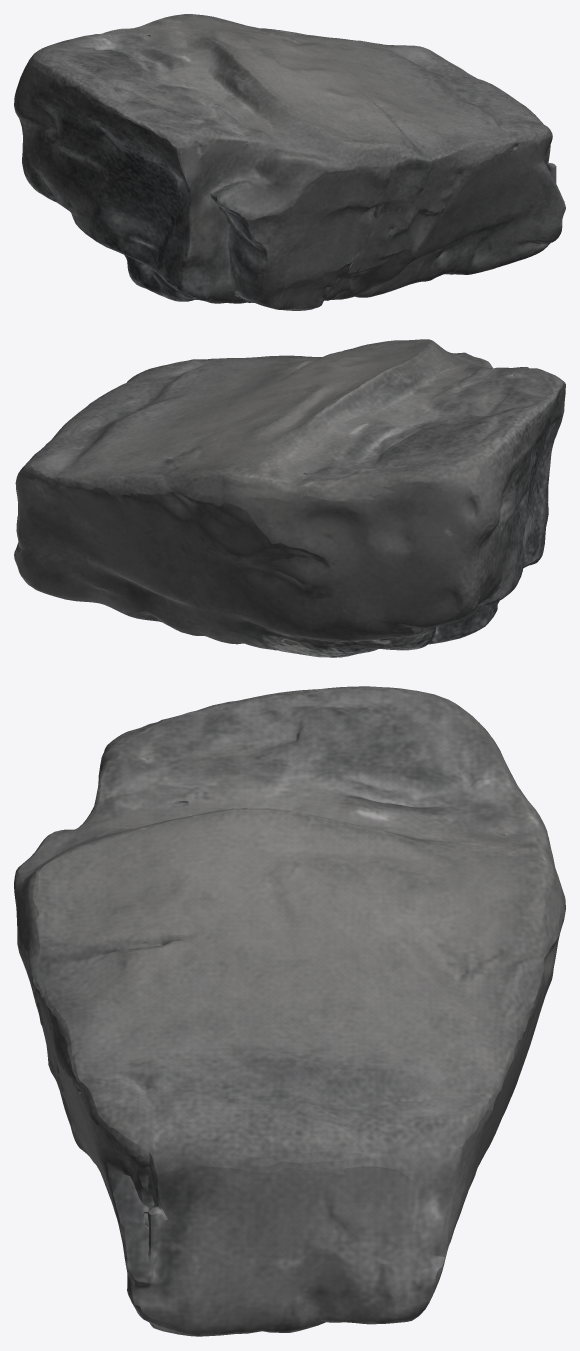
Rendered from tex_mesh.glb.
The picture shows the model from 3 angles, top to bottom: view 1: azimuth 30°, elevation 25°; view 2: azimuth 150°, elevation 25°; view 3: azimuth 270°, elevation 25°; orthographic projection. The views are drawn at different scales.
Visible parts, largest first — view 1: world; view 2: world; view 3: world.
Part boxes in pixels (x1=…): world: x1=14, y1=14, x2=565, y2=310; world: x1=14, y1=339, x2=565, y2=657; world: x1=14, y1=686, x2=565, y2=1336.
Size of the model in its own units: 2.5 by 1.28 by 1.81.
1 material, 1 textured.
